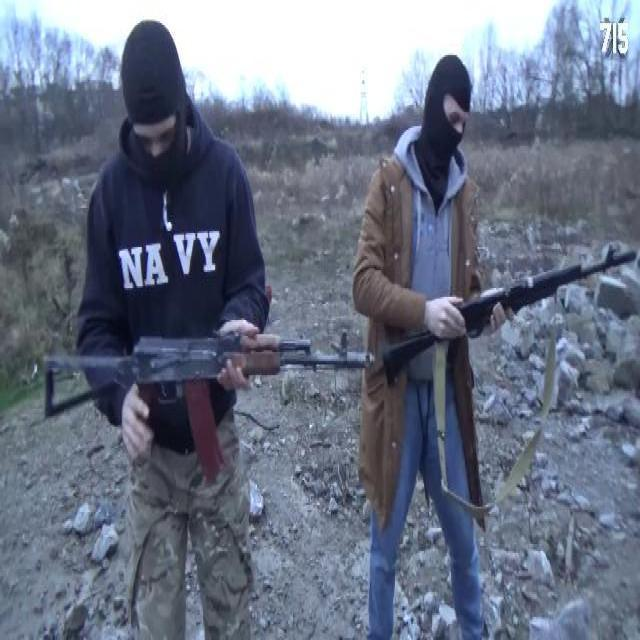pistol: (42, 334, 376, 467), (384, 240, 636, 395)
